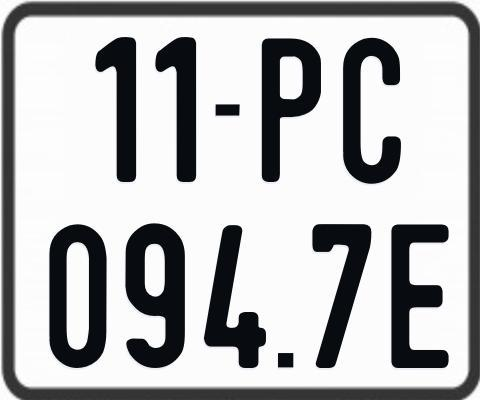0: (46, 224, 109, 369)
1: (152, 34, 193, 185), (95, 35, 137, 182)
4: (203, 223, 265, 369)
7: (312, 222, 375, 371)
9: (125, 223, 191, 374)
C: (342, 38, 403, 187)
E: (390, 222, 448, 368)
P: (260, 36, 322, 184)
